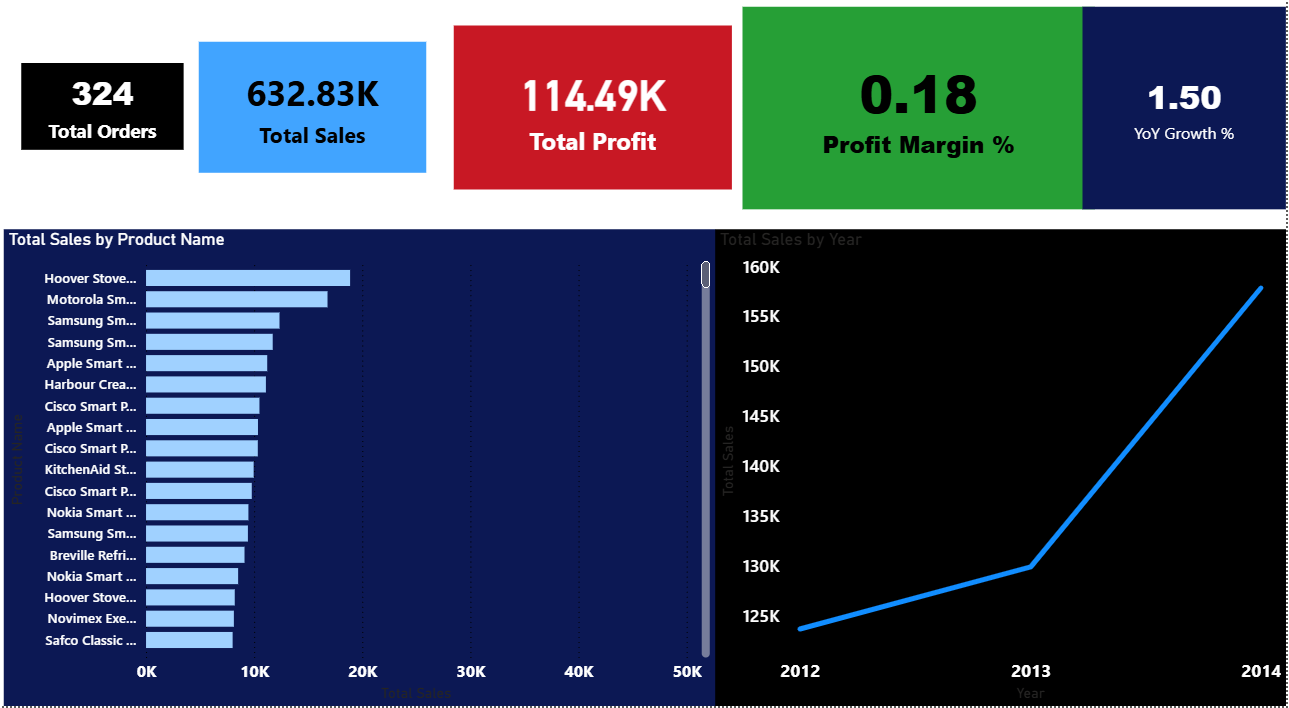

This screenshot's page, from the dashboard's own definition file:
{"tool":"powerbi","page":{"name":"Page 1","canvas":[1280,720],"ordinal":0},"visuals":[{"type":"card","fields":{"Values":["Fact_sale.Total Sales"]},"box":[197.6,59,226.4,130.4],"z":0},{"type":"card","fields":{"Values":["Fact_sale.Profit Margin %"]},"box":[738.9,23.6,350.8,201.5],"z":1000},{"type":"card","fields":{"Values":["Fact_sale.Total Orders"]},"box":[20.6,79.6,161.9,86.4],"z":2000},{"type":"card","fields":{"Values":["Fact_sale.Total Profit"]},"box":[451.5,42.5,277.2,163.3],"z":3000},{"type":"card","fields":{"Values":["Fact_sale.YoY Growth %"]},"box":[1077.3,23.6,202.8,201.5],"z":4000},{"type":"lineChart","fields":{"Y":["Fact_sale.Total Sales"],"Category":["Dim_Date.Date.Variation.Date Hierarchy.Year"]},"box":[711.5,245.1,568.5,475.2],"z":5000},{"type":"clusteredBarChart","fields":{"Category":["Dim_Product.Product Name"],"Y":["Fact_sale.Total Sales"]},"box":[3.7,245.1,707.8,475.2],"z":6000}]}

Visuals, with their boxes in screenshot pixels (x1, y1, x2, y2), scaled from the page's 1280x720 canvas onto the 1289x708 screenshot:
card - Fact_sale.Total Sales: crop(199, 58, 427, 186)
card - Fact_sale.Profit Margin %: crop(744, 23, 1097, 221)
card - Fact_sale.Total Orders: crop(21, 78, 184, 163)
card - Fact_sale.Total Profit: crop(455, 42, 734, 202)
card - Fact_sale.YoY Growth %: crop(1085, 23, 1288, 221)
lineChart - Fact_sale.Total Sales x Dim_Date.Date.Variation.Date Hierarchy.Year: crop(717, 241, 1288, 707)
clusteredBarChart - Dim_Product.Product Name x Fact_sale.Total Sales: crop(4, 241, 717, 707)
